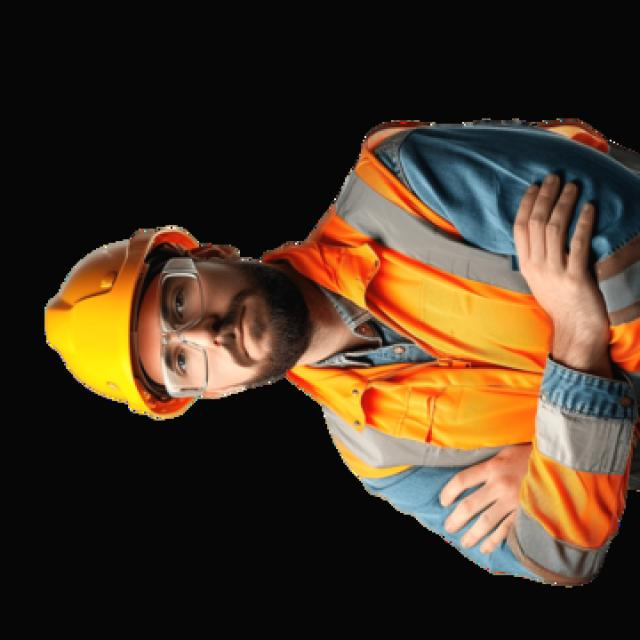Hard Hat: (36, 220, 194, 422)
Reflective Vest: (272, 120, 640, 519)
Safety Glasses: (156, 251, 212, 406)
